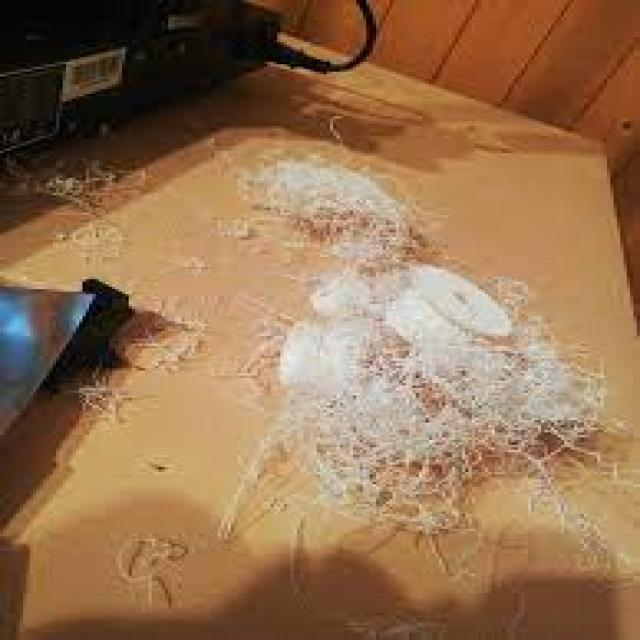spaghetti: (213, 134, 592, 532), (33, 153, 141, 262), (119, 519, 196, 606), (121, 306, 185, 396)
